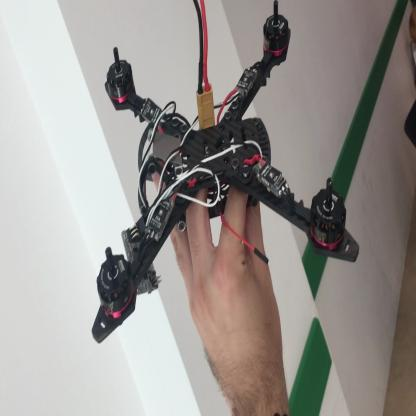drone: (94, 5, 360, 345)
